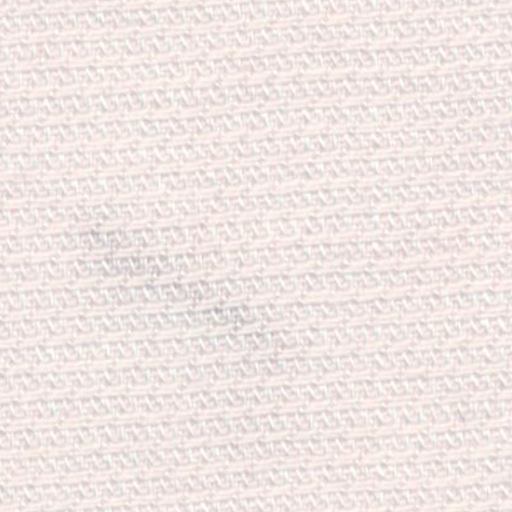WuZi: (54, 200, 280, 360)
